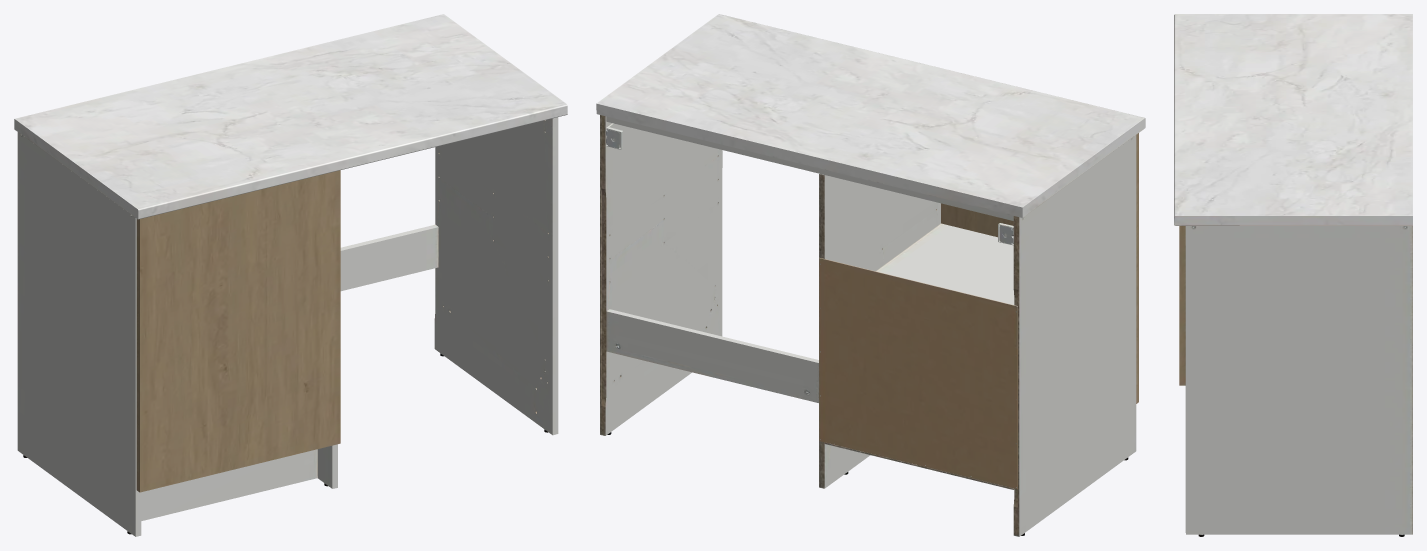
File: knoxhult-armario-bajo-puerta-y-hueco-efecto-roble.glb
The picture shows the model from 3 angles, left to right: view 1: azimuth 30°, elevation 25°; view 2: azimuth 150°, elevation 25°; view 3: azimuth 270°, elevation 25°; orthographic projection. The views are drawn at different scales.
Visible parts, largest first — view 1: ASY_ART_40604244_S01_NV01; view 2: ASY_ART_40604244_S01_NV01; view 3: ASY_ART_40604244_S01_NV01.
Part boxes in pixels (x1=…): ASY_ART_40604244_S01_NV01: x1=14, y1=14, x2=567, y2=536; ASY_ART_40604244_S01_NV01: x1=596, y1=14, x2=1145, y2=536; ASY_ART_40604244_S01_NV01: x1=1174, y1=14, x2=1412, y2=536.
Size of the model in its own units: 1.22 by 0.9102 by 0.6103.
2 materials, 1 textured.
